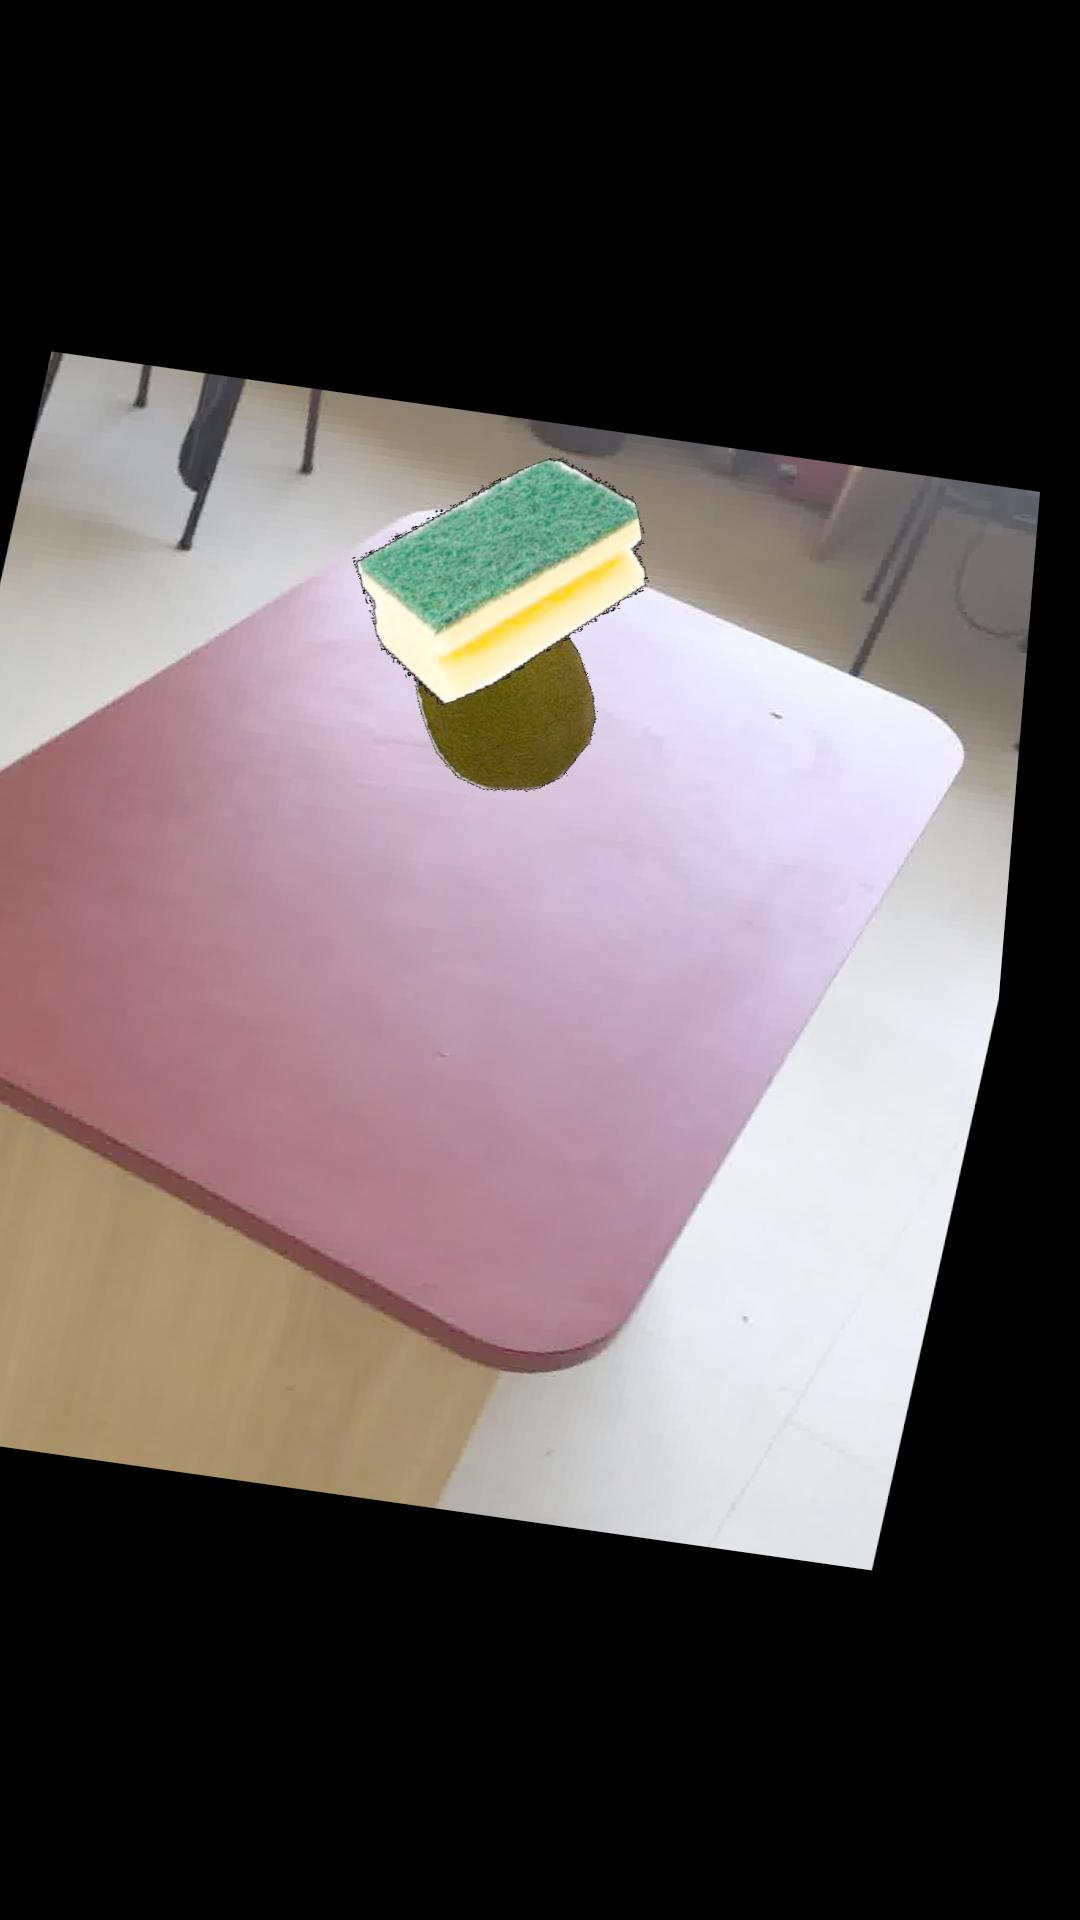kiwi: (426, 638, 607, 791)
sponge: (364, 458, 657, 705)
